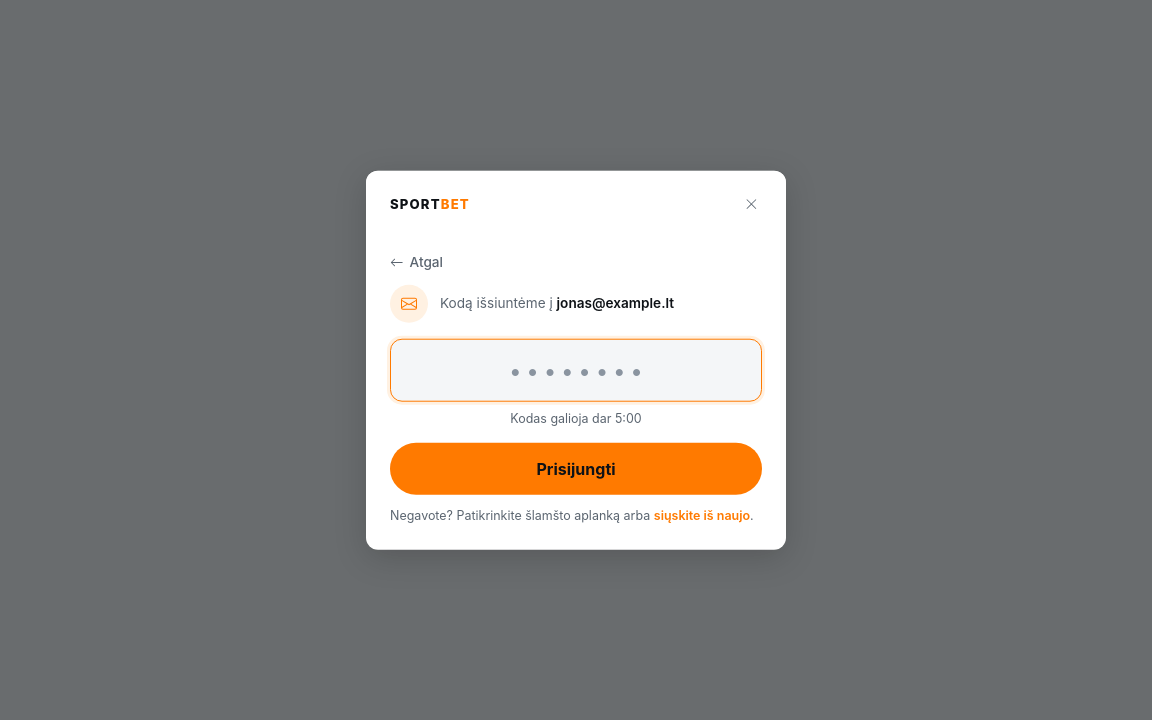
Test: the code step › acknowledges a resend on its countdown line, and a first send not at all
This screenshot has width=1152, height=720.
Expected: the text "Kodą išsiuntėme iš naujo." is not shown
What coordinates should you click on to do the following:
click the button with aria-label "Siųsti kodą iš naujo"
I would click on:
 (702, 516)
Its box is [654,507,750,525].
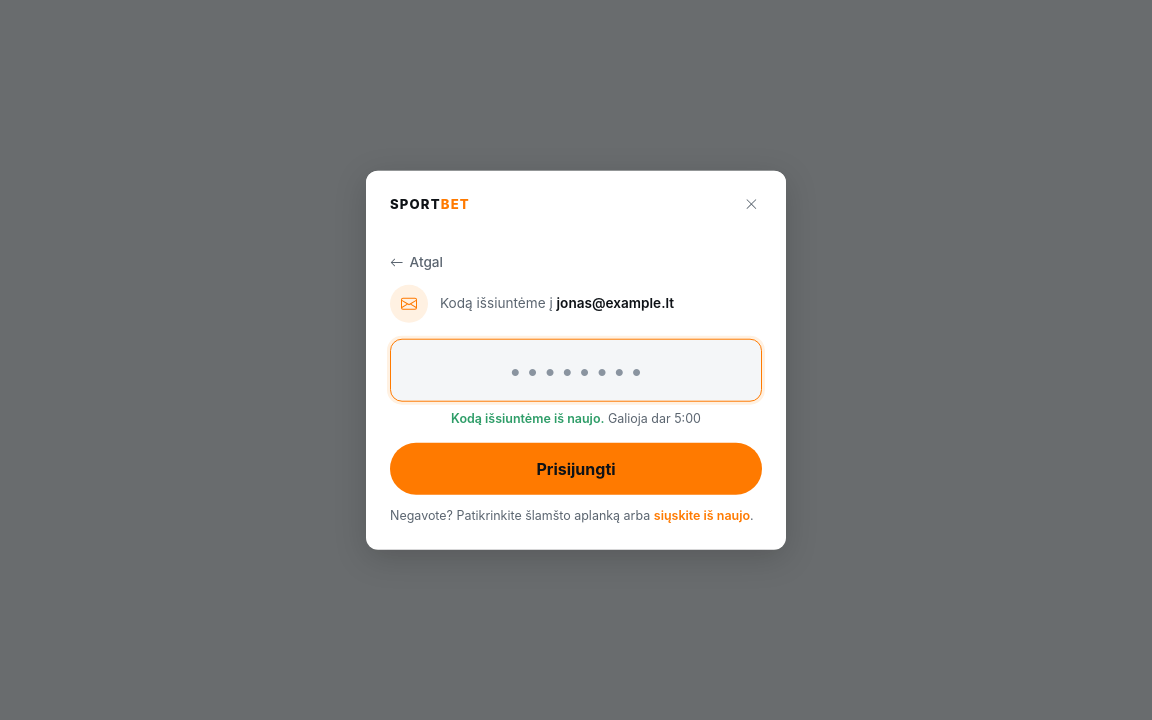
Result: the text "Kodą išsiuntėme iš naujo." is shown at [451,411,604,426]
